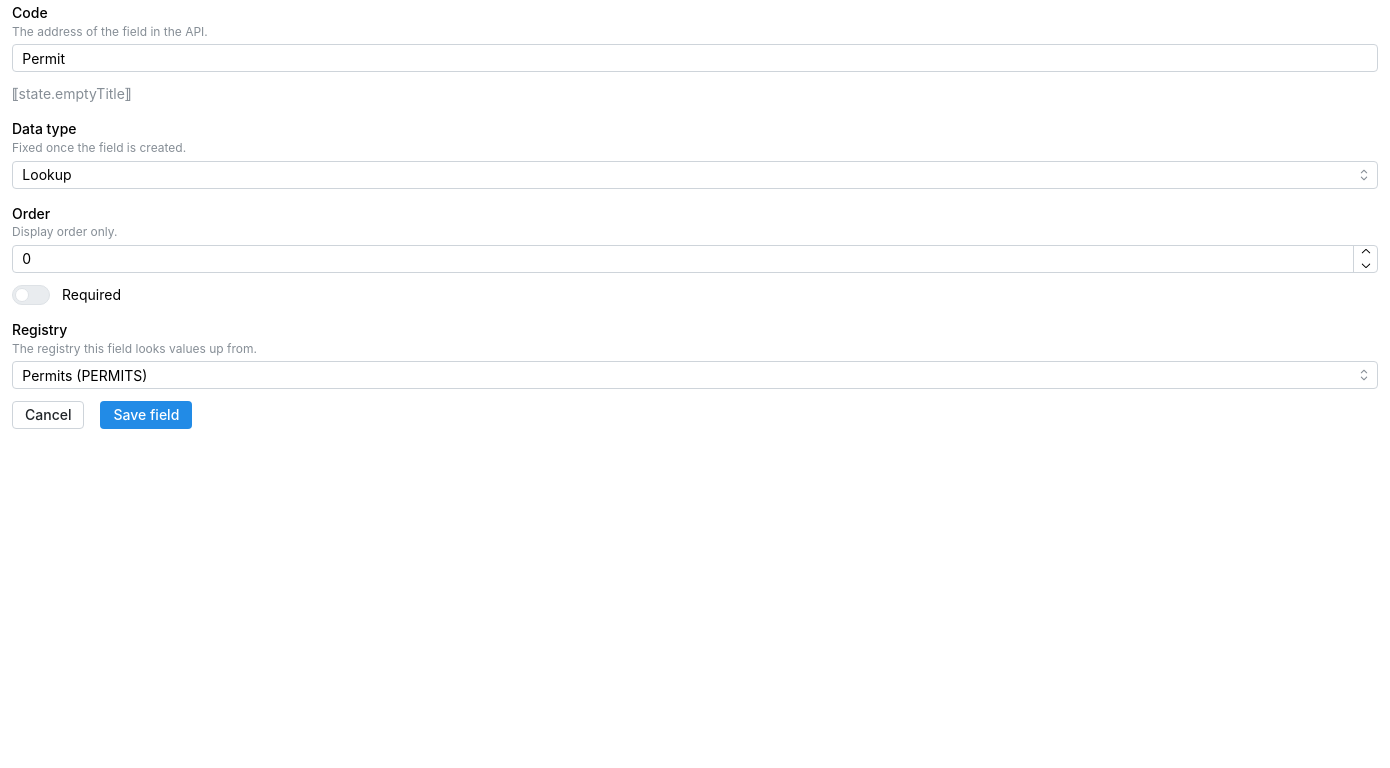
Scenario: HeaderFieldEditor: вибір довідника лише для типу Lookup › поточна ціль, що Є в переліку, не дає зайвої опції «unlisted»
This screenshot has width=1390, height=768.
Click the field labelled "Registry": (695, 375) [12, 361, 1378, 389]
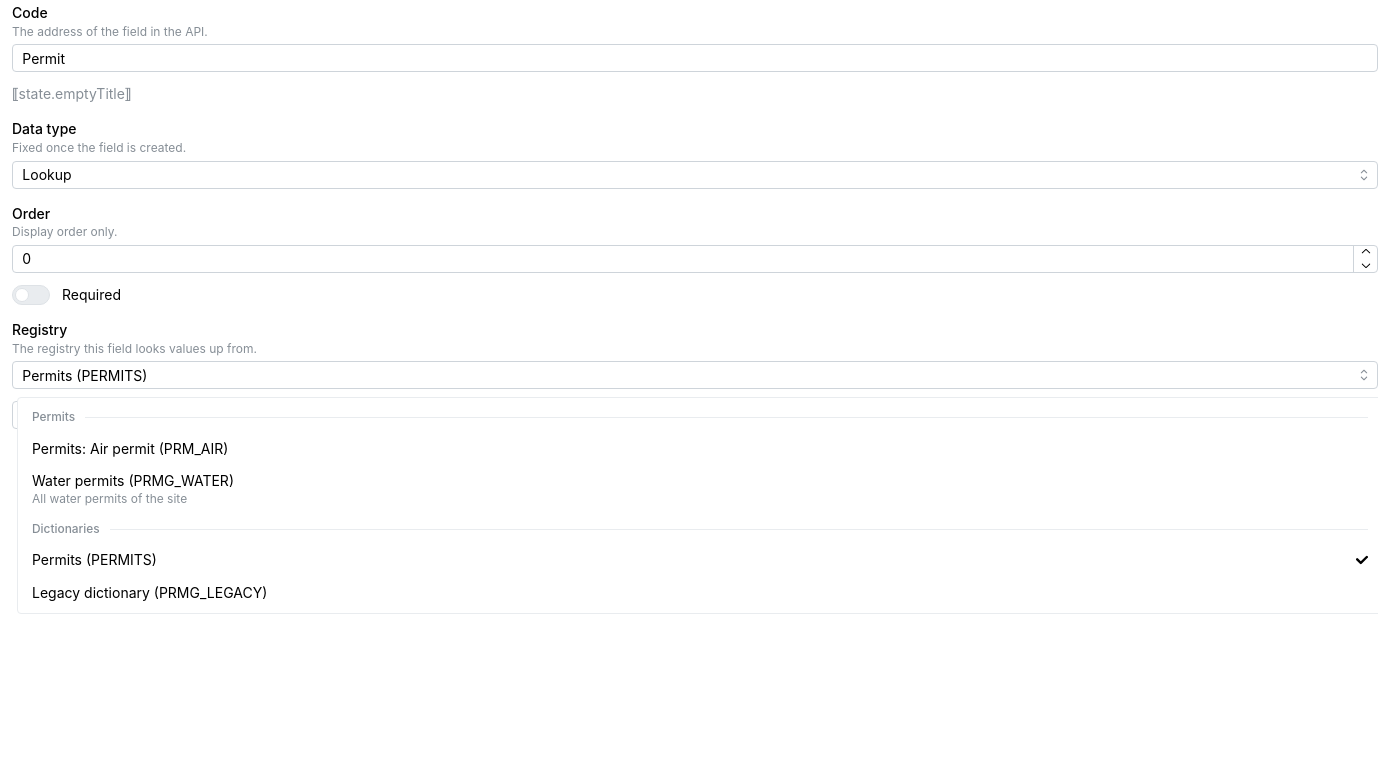
Expected: the text "Dictionaries" is shown, [32, 521, 100, 536]
